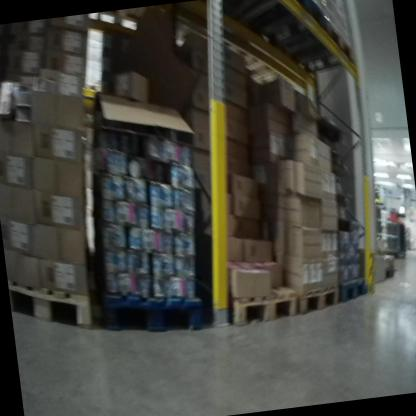pallet: (97, 268, 220, 341), (8, 259, 102, 347), (235, 0, 334, 70), (205, 270, 304, 338), (264, 21, 358, 89), (290, 276, 342, 319), (336, 270, 373, 306)
pallet_truck: (374, 196, 413, 262)
